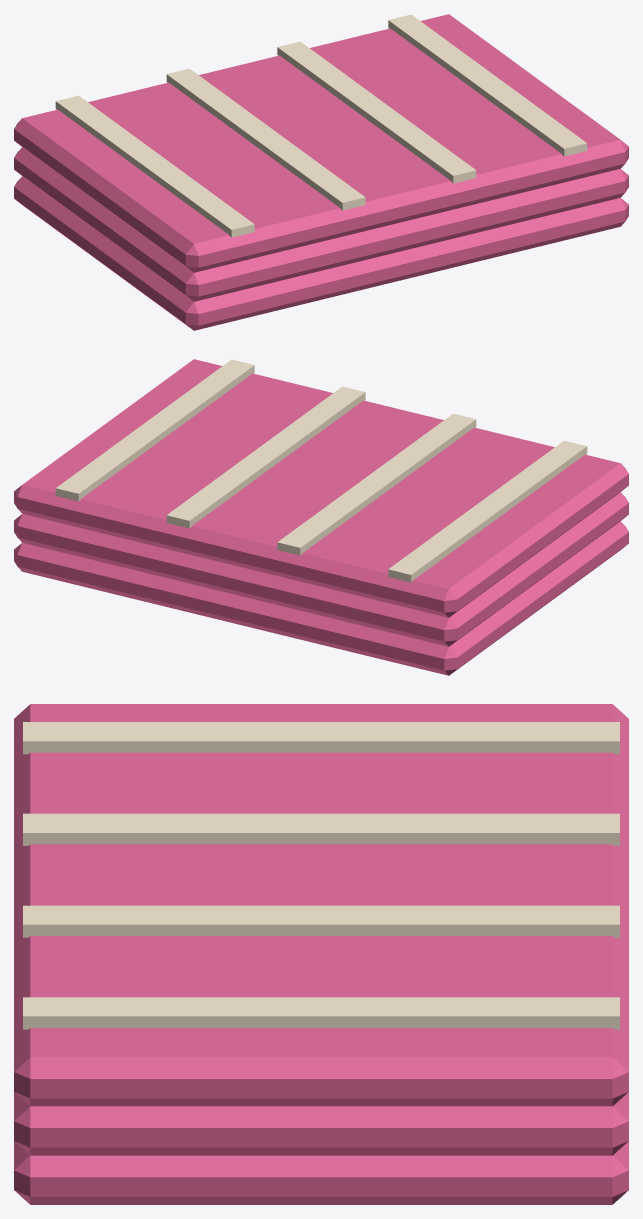
3 renders of one model, top to bottom at view 1: azimuth 30°, elevation 25°; view 2: azimuth 150°, elevation 25°; view 3: azimuth 270°, elevation 25°, orthographic. The views are drawn at different scales.
Parts seen in each view (by area): view 1: Folded textile.002, Folded textile, Folded textile.001, Woven blanket stripe.001, Woven blanket stripe.002, Woven blanket stripe.003, Woven blanket stripe; view 2: Folded textile.002, Folded textile, Folded textile.001, Woven blanket stripe.001, Woven blanket stripe.002, Woven blanket stripe.003, Woven blanket stripe; view 3: Folded textile.002, Folded textile, Folded textile.001, Woven blanket stripe.001, Woven blanket stripe, Woven blanket stripe.002, Woven blanket stripe.003.
Boxes of the visible parts, box(x1,y1,x2,y2) form: Folded textile.002: box(14, 14, 628, 272); Folded textile: box(14, 176, 628, 330); Folded textile.001: box(14, 147, 628, 301); Woven blanket stripe.001: box(166, 68, 365, 210); Woven blanket stripe.002: box(277, 41, 476, 183); Woven blanket stripe.003: box(388, 14, 587, 156); Woven blanket stripe: box(55, 95, 254, 237); Folded textile.002: box(14, 359, 628, 617); Folded textile: box(14, 521, 628, 675); Folded textile.001: box(14, 492, 628, 646); Woven blanket stripe.001: box(277, 413, 476, 555); Woven blanket stripe.002: box(166, 386, 365, 528); Woven blanket stripe.003: box(55, 359, 254, 501); Woven blanket stripe: box(388, 440, 587, 582); Folded textile.002: box(14, 704, 628, 1106); Folded textile: box(14, 1141, 628, 1204); Folded textile.001: box(14, 1092, 628, 1155); Woven blanket stripe.001: box(23, 813, 619, 845); Woven blanket stripe: box(23, 722, 619, 754); Woven blanket stripe.002: box(23, 905, 619, 937); Woven blanket stripe.003: box(23, 997, 619, 1029).
Size of the model in its own units: 0.48 by 0.097 by 0.34.
Materials: 1 (1 with a texture image).
